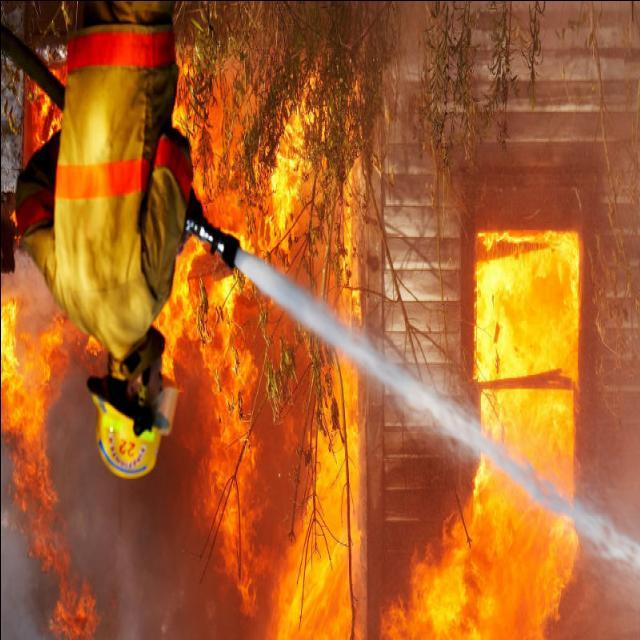Fire: (6, 111, 338, 639), (386, 237, 582, 638)
